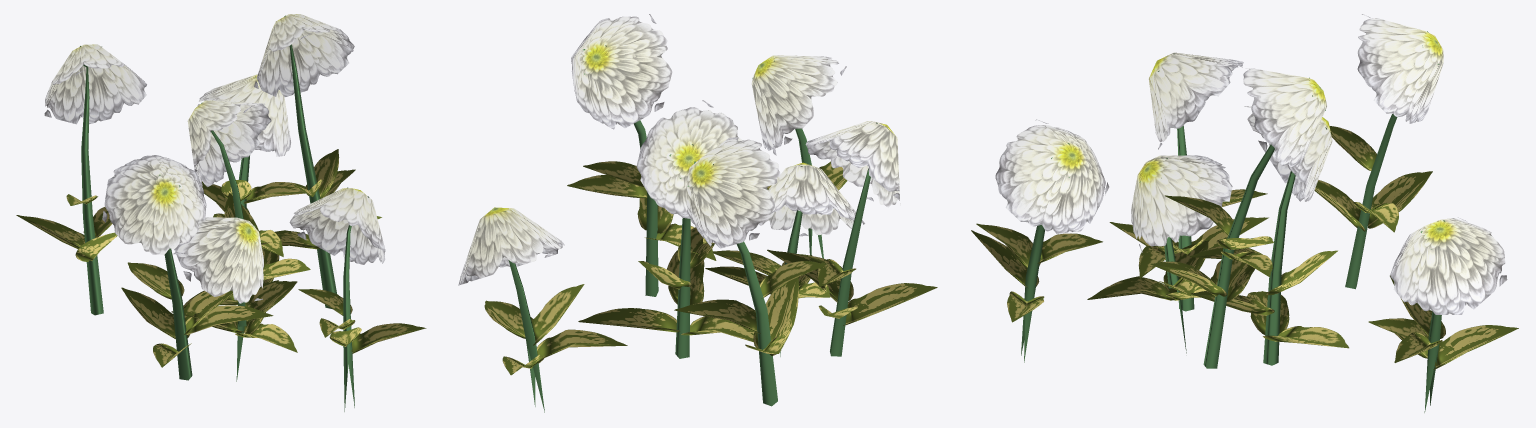
3 renders of one model, left to right at view 1: azimuth 30°, elevation 25°; view 2: azimuth 150°, elevation 25°; view 3: azimuth 270°, elevation 25°, orthographic. The views are drawn at different scales.
Visible parts, largest first — view 1: e38f6e6e; view 2: e38f6e6e; view 3: e38f6e6e.
Boxes of the visible parts, x1=… form: e38f6e6e: x1=16, y1=14, x2=426, y2=411; e38f6e6e: x1=458, y1=14, x2=937, y2=412; e38f6e6e: x1=971, y1=14, x2=1518, y2=412.
Size of the model in its own units: 0.119 by 0.1176 by 0.1717.
Materials: 3 (2 with a texture image).
